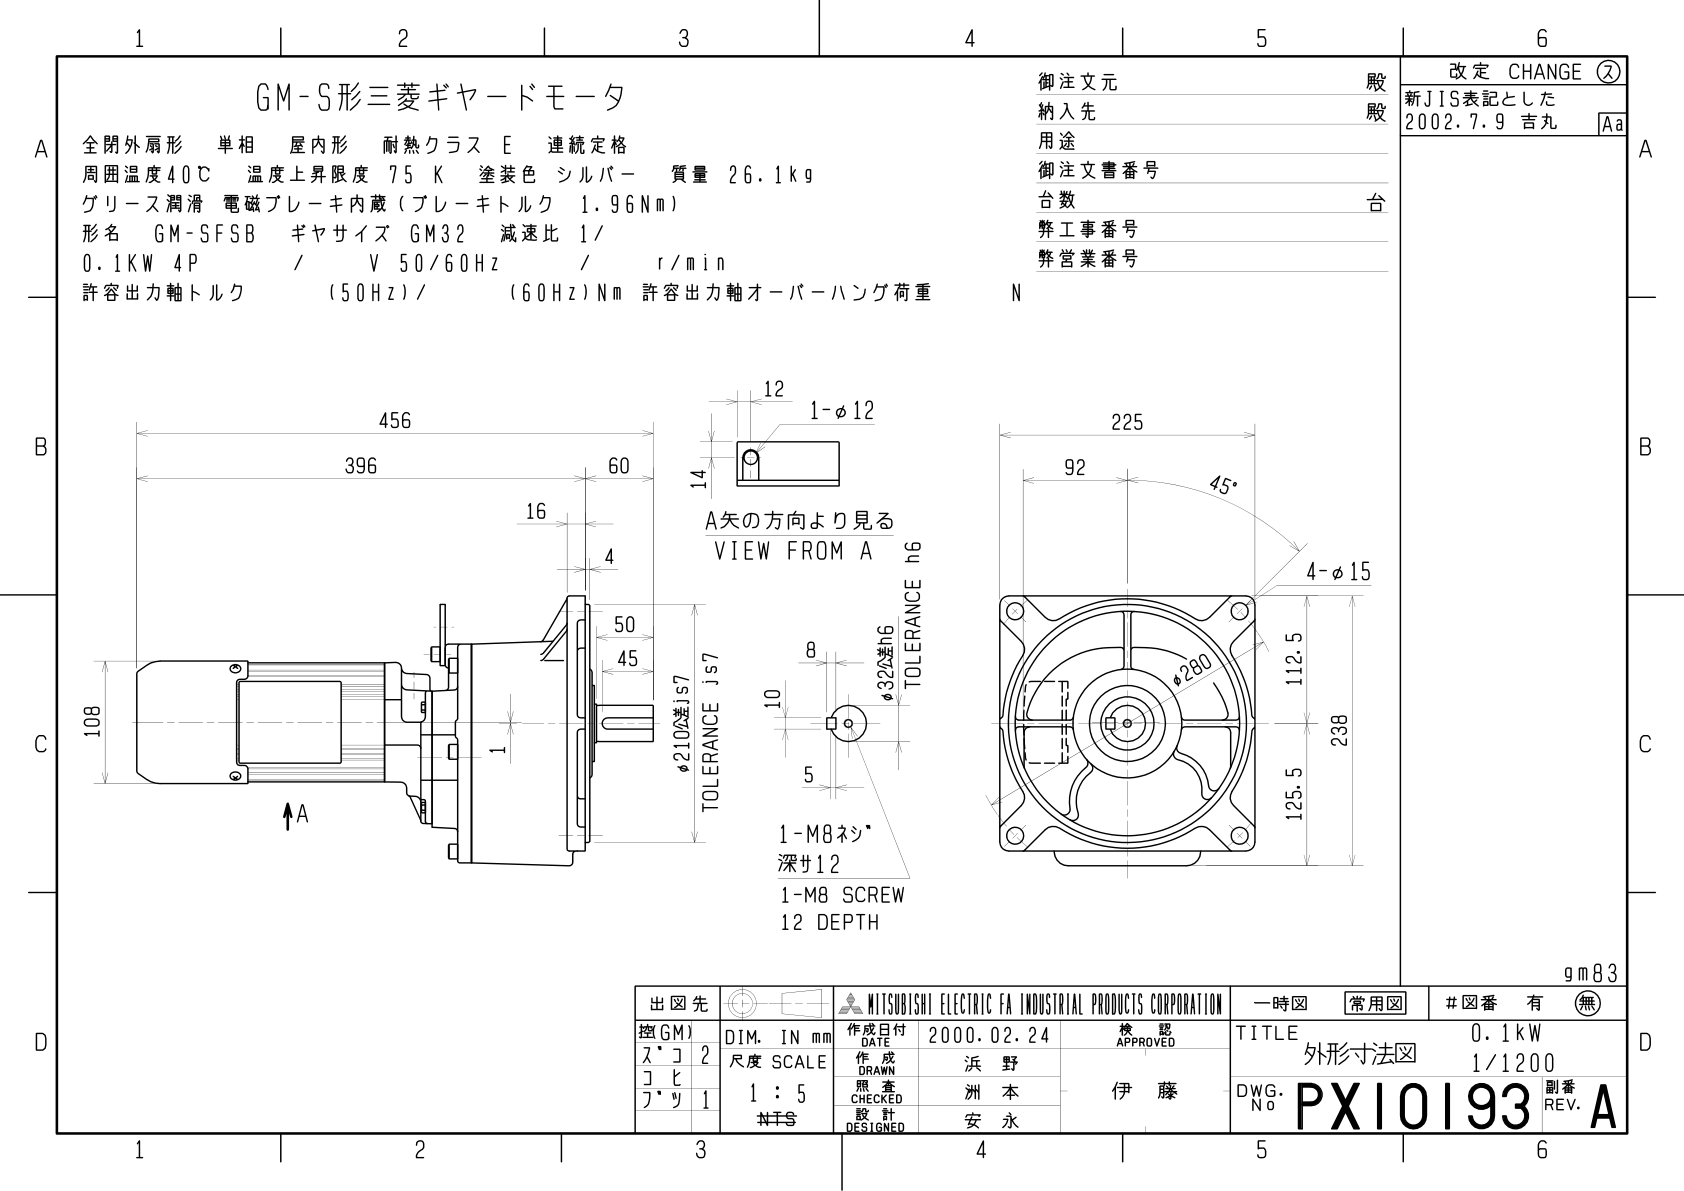GM_S_屋内＿単相_フランジ: (70, 361, 1381, 947)
